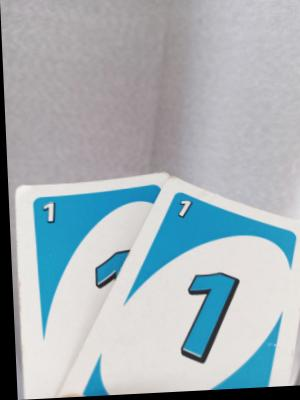blue: (30, 188, 121, 332)
num_1: (169, 195, 194, 229), (38, 200, 59, 225)
